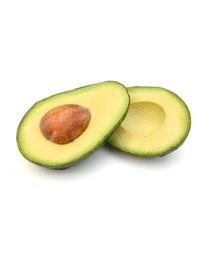avocado: (17, 81, 130, 171), (98, 86, 191, 158)
